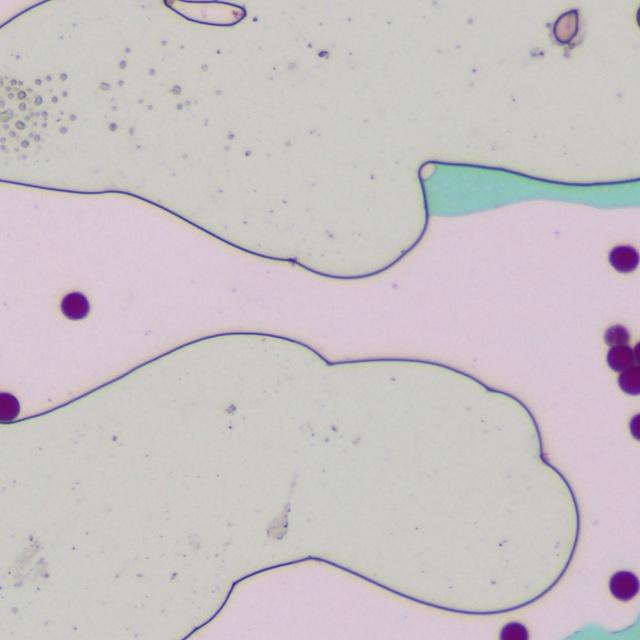viable: (610, 571, 639, 600), (609, 245, 639, 272), (61, 292, 89, 319), (607, 345, 633, 371), (618, 366, 639, 394), (0, 392, 19, 421), (604, 325, 629, 346), (500, 622, 528, 639), (630, 414, 639, 439), (634, 342, 639, 363)
